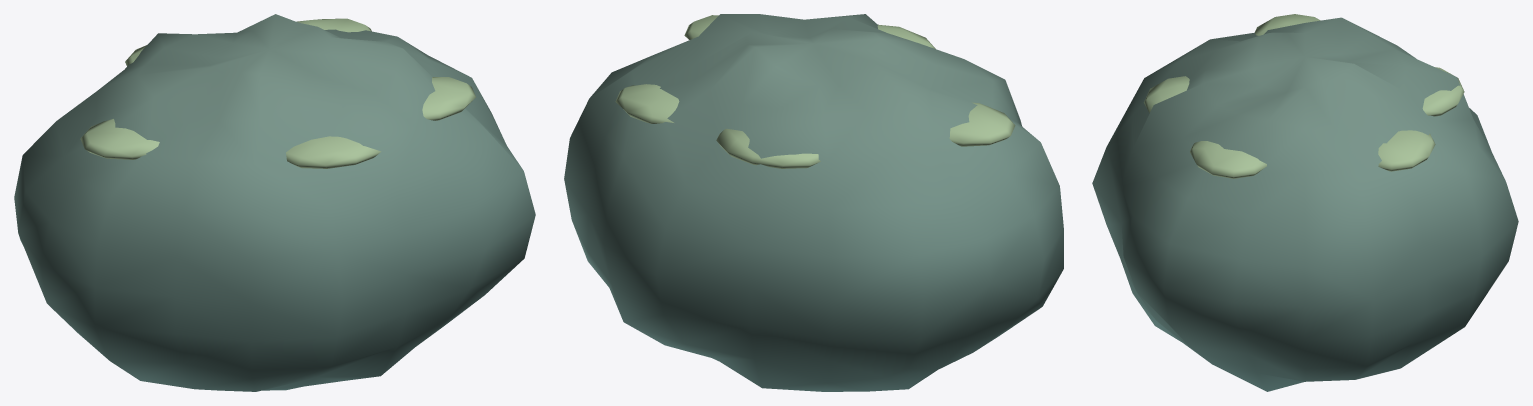
The model's file is reef_rock_0.glb.
3 views of the same model, side by side, from view 1: azimuth 30°, elevation 25°; view 2: azimuth 150°, elevation 25°; view 3: azimuth 270°, elevation 25° (orthographic). The views are drawn at different scales.
Parts seen in each view (by area): view 1: reef_rock_0_painted_mesh; view 2: reef_rock_0_painted_mesh; view 3: reef_rock_0_painted_mesh.
Boxes of the visible parts, left/top/right/bottom form: reef_rock_0_painted_mesh: left=14, top=14, right=535, bottom=391; reef_rock_0_painted_mesh: left=564, top=14, right=1063, bottom=391; reef_rock_0_painted_mesh: left=1092, top=14, right=1518, bottom=391.
Size of the model in its own units: 2 by 1.38 by 1.74.
